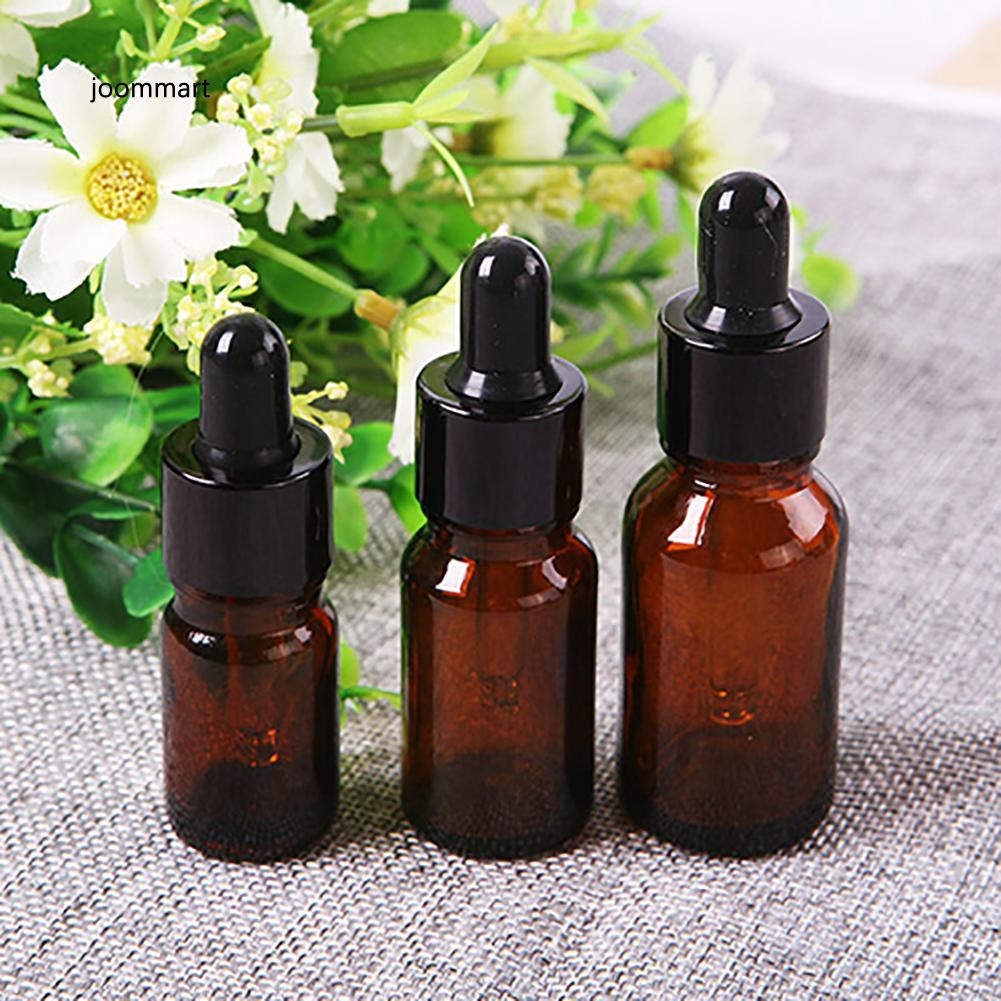glass_bottle: (620, 167, 846, 869), (405, 232, 601, 861), (154, 306, 355, 869)
